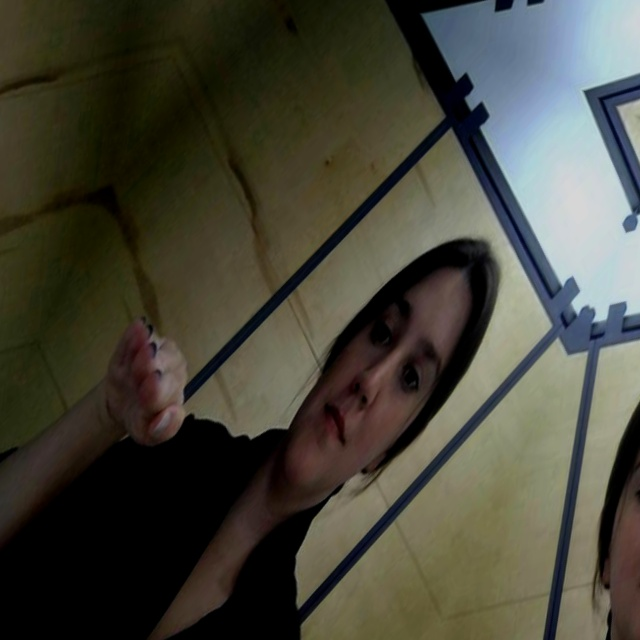Paper: (0, 165, 32, 386)
